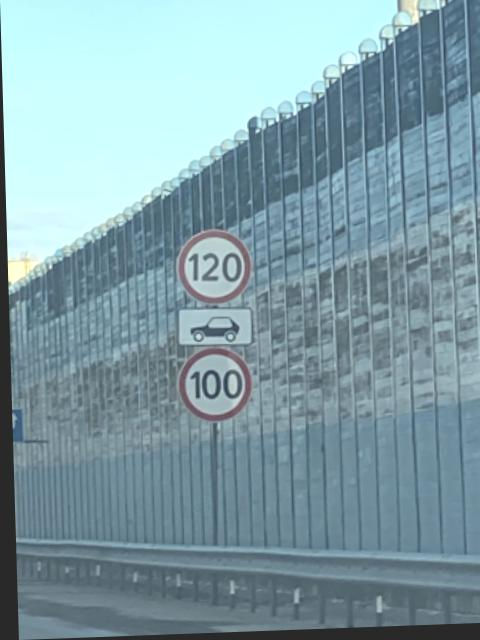limit100: (176, 340, 254, 430)
limit120: (171, 227, 254, 309)
